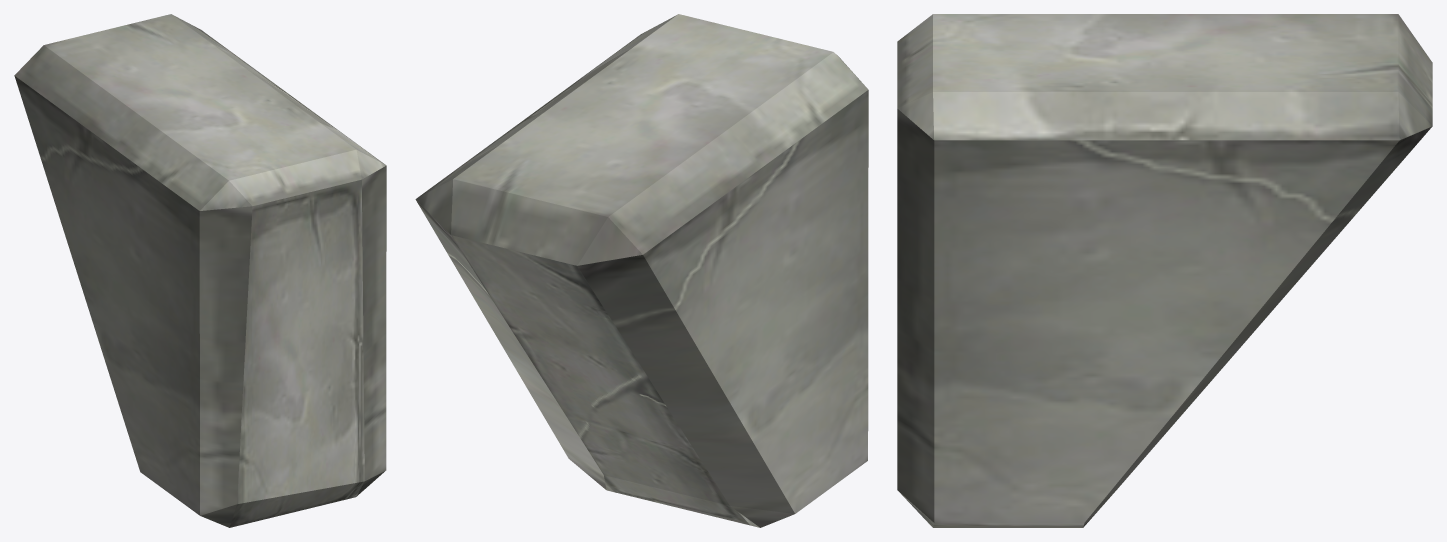
The model's file is Stone_Alone_02.FBX.
3 views of the same model, side by side, from view 1: azimuth 30°, elevation 25°; view 2: azimuth 150°, elevation 25°; view 3: azimuth 270°, elevation 25° (orthographic). The views are drawn at different scales.
Parts seen in each view (by area): view 1: Stone_Alone_02; view 2: Stone_Alone_02; view 3: Stone_Alone_02.
Part boxes in pixels (x1=…): Stone_Alone_02: x1=14, y1=14, x2=386, y2=527; Stone_Alone_02: x1=415, y1=14, x2=868, y2=527; Stone_Alone_02: x1=897, y1=14, x2=1432, y2=527.
Bounding box in the file's own units: 29.71 × 52.76 × 58.67.
